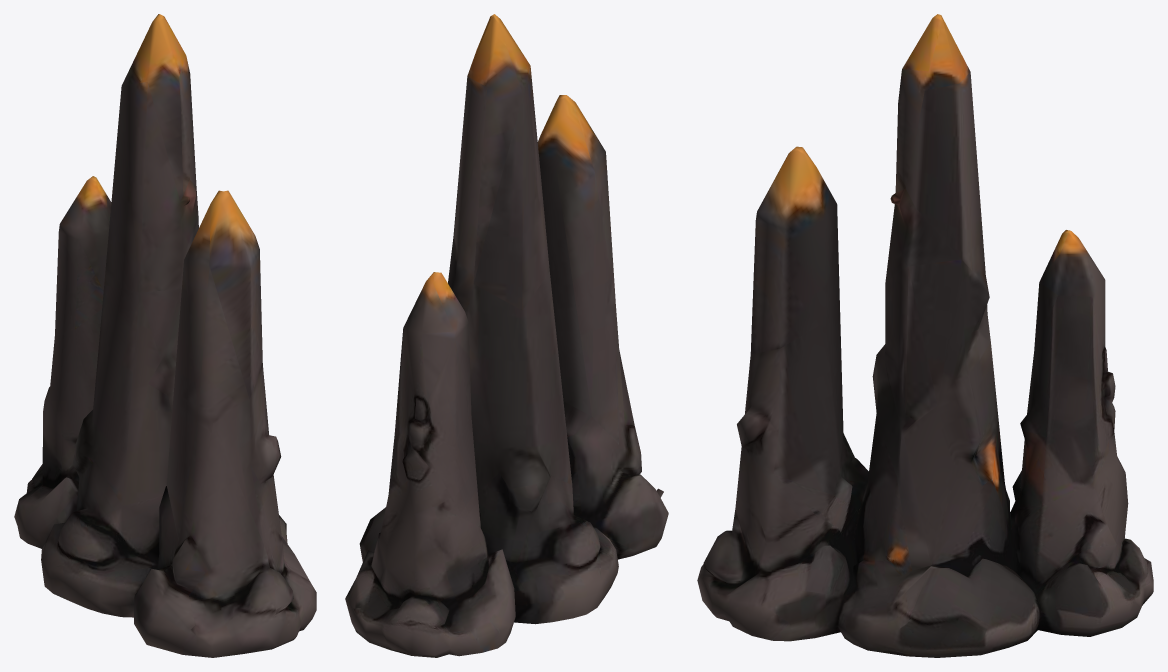
File: spires.glb
3 renders of one model, left to right at view 1: azimuth 30°, elevation 25°; view 2: azimuth 150°, elevation 25°; view 3: azimuth 270°, elevation 25°, orthographic. The views are drawn at different scales.
Visible parts, largest first — view 1: tripo_node_a234f139-68ca-4856-a21d-1be935eb1865; view 2: tripo_node_a234f139-68ca-4856-a21d-1be935eb1865; view 3: tripo_node_a234f139-68ca-4856-a21d-1be935eb1865.
Part boxes in pixels (x1=…): tripo_node_a234f139-68ca-4856-a21d-1be935eb1865: x1=14, y1=14, x2=316, y2=657; tripo_node_a234f139-68ca-4856-a21d-1be935eb1865: x1=345, y1=14, x2=668, y2=657; tripo_node_a234f139-68ca-4856-a21d-1be935eb1865: x1=697, y1=14, x2=1153, y2=657.
Size of the model in its own units: 0.4199 by 0.998 by 0.7012.
Materials: 1 (1 with a texture image).
